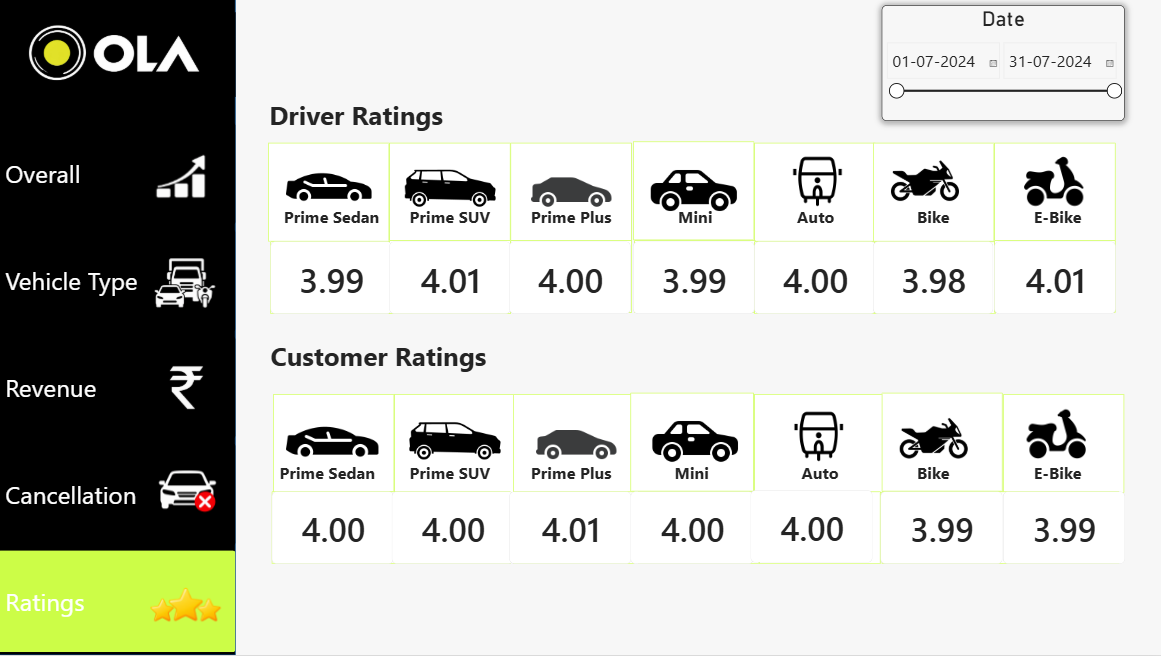

The dashboard page shown, as its layout file describes it:
{"tool":"powerbi","page":{"name":"Ratings","canvas":[1920,1080],"ordinal":4},"visuals":[{"type":"shape","box":[0,0,391.1,1080.6],"z":0},{"type":"image","box":[0,10.3,391.1,162.6],"z":1000},{"type":"pageNavigator","box":[0,203.2,391.1,876.8],"z":2000},{"type":"actionButton","box":[242.9,242.9,115.3,96.7],"z":3000},{"type":"actionButton","box":[195.5,378.7,224.4,162.6],"z":4000},{"type":"actionButton","box":[228.5,557.8,162.6,162.6],"z":5000},{"type":"actionButton","box":[197.6,720.4,228.5,179.1],"z":6000},{"type":"actionButton","box":[197.6,917.4,222.3,162.6],"z":7000},{"type":"shape","box":[444.7,237.3,199.7,162.6],"z":8000},{"type":"shape","box":[643.6,237.3,199.7,162.6],"z":9000},{"type":"shape","box":[844.5,237.3,199.7,162.6],"z":10000},{"type":"shape","box":[1045.5,235.2,199.7,162.6],"z":11000},{"type":"shape","box":[1244.4,237.3,199.7,162.6],"z":12000},{"type":"shape","box":[1441.1,237.3,199.7,162.6],"z":13000},{"type":"shape","box":[1639.9,237.3,199.7,162.6],"z":14000},{"type":"shape","box":[449,399.8,199.7,119.4],"z":15000},{"type":"shape","box":[643.6,397.7,200,121.4],"z":16000},{"type":"shape","box":[844.5,397.7,200,119.6],"z":17000},{"type":"shape","box":[1047.7,397.7,199.7,119.4],"z":18000},{"type":"shape","box":[1244.4,399.8,199.7,119.4],"z":19000},{"type":"shape","box":[1443.2,399.8,199.7,119.4],"z":20000},{"type":"shape","box":[1639.9,397.7,199.7,119.4],"z":21000},{"type":"shape","box":[453.3,650,199.7,162.6],"z":22000},{"type":"shape","box":[652.1,650,199.7,162.6],"z":23000},{"type":"shape","box":[848.8,650,199.7,162.6],"z":24000},{"type":"shape","box":[1041.2,647.8,203.1,162.5],"z":25000},{"type":"shape","box":[1244.4,650,211.7,162.5],"z":26000},{"type":"shape","box":[1456,647.8,198.8,162.5],"z":27000},{"type":"shape","box":[1654.9,650,199.7,162.6],"z":28000},{"type":"shape","box":[451.1,810.3,199.7,119.4],"z":29000},{"type":"shape","box":[643.6,810.3,199.7,119.4],"z":30000},{"type":"shape","box":[848.8,810.3,199.7,119.4],"z":31000},{"type":"shape","box":[1054.1,810.3,199.7,119.4],"z":32000},{"type":"shape","box":[1252.9,810.3,199.7,119.4],"z":33000},{"type":"shape","box":[1456,810.3,199.7,119.4],"z":34000},{"type":"shape","box":[1646.3,810.3,199.7,119.4],"z":35000},{"type":"image","box":[444.7,237.3,200,150],"z":36000},{"type":"textbox","box":[448.2,410.7,200,50],"z":37000},{"type":"textbox","box":[449,340,198.8,57.7],"z":38000},{"type":"image","box":[643.6,237.3,201,149.7],"z":39000},{"type":"textbox","box":[647.8,340,201,59.9],"z":40000},{"type":"image","box":[844.5,237.3,200,162.5],"z":41000},{"type":"textbox","box":[848.8,340,198.8,59.9],"z":42000},{"type":"image","box":[1045.5,252.3,200,144.6],"z":43000},{"type":"textbox","box":[1047.7,340,201,57.7],"z":44000},{"type":"image","box":[1248.6,258.7,200,82.1],"z":45000},{"type":"textbox","box":[1248.6,340,198.8,59.9],"z":46000},{"type":"image","box":[1426.1,243.7,200,112.5],"z":47000},{"type":"textbox","box":[1447.5,340,198.8,59.9],"z":48000},{"type":"image","box":[1637.8,250.2,200,98.2],"z":49000},{"type":"textbox","box":[1646.3,340,201,57.7],"z":50000},{"type":"image","box":[451.1,650,199.7,162.6],"z":51000},{"type":"image","box":[652.1,652.1,200,150],"z":52000},{"type":"image","box":[853.1,652.1,200,162.5],"z":53000},{"type":"image","box":[1047.7,667.1,201,143.3],"z":54000},{"type":"image","box":[1250.8,679.9,200,82.1],"z":55000},{"type":"image","box":[1441.1,667.1,200,112.5],"z":56000},{"type":"image","box":[1642,667.1,200,98.2],"z":57000},{"type":"textbox","box":[449,761.2,198.8,49.2],"z":58000},{"type":"textbox","box":[647.8,761.2,201,51.3],"z":59000},{"type":"textbox","box":[848.8,761.2,198.8,49.2],"z":60000},{"type":"textbox","box":[1047.7,761.2,201,51.3],"z":61000},{"type":"textbox","box":[1248.6,761.2,198.8,49.2],"z":62000},{"type":"textbox","box":[1447.5,761.2,198.8,49.2],"z":63000},{"type":"textbox","box":[1646.3,761.2,201,51.3],"z":64000},{"type":"cardVisual","fields":{"Data":["Avg(Bookings-100000-Rows xlsx - July.Driver_Ratings)"]},"box":[449,399.8,200,119.6],"z":65000},{"type":"cardVisual","fields":{"Data":["Avg(Bookings-100000-Rows xlsx - July.Driver_Ratings)"]},"box":[643.6,399.8,200,119.6],"z":66000},{"type":"cardVisual","fields":{"Data":["Avg(Bookings-100000-Rows xlsx - July.Driver_Ratings)"]},"box":[842.4,399.8,200,119.6],"z":67000},{"type":"cardVisual","fields":{"Data":["Avg(Bookings-100000-Rows xlsx - July.Driver_Ratings)"]},"box":[1045.5,399.8,200,119.6],"z":68000},{"type":"cardVisual","fields":{"Data":["Avg(Bookings-100000-Rows xlsx - July.Driver_Ratings)"]},"box":[1244.4,399.8,200,119.6],"z":69000},{"type":"cardVisual","fields":{"Data":["Avg(Bookings-100000-Rows xlsx - July.Driver_Ratings)"]},"box":[1441.1,399.8,198.8,119.7],"z":70000},{"type":"cardVisual","fields":{"Data":["Avg(Bookings-100000-Rows xlsx - July.Driver_Ratings)"]},"box":[1639.9,399.8,200,119.6],"z":71000},{"type":"textbox","box":[446.9,160.4,402,59.9],"z":72000},{"type":"textbox","box":[449,558,399.8,81.2],"z":73000},{"type":"cardVisual","fields":{"Data":["Avg(Bookings-100000-Rows xlsx - July.Customer_Rating)"]},"box":[451.1,810.3,201.7,119.4],"z":74000},{"type":"cardVisual","fields":{"Data":["Avg(Bookings-100000-Rows xlsx - July.Customer_Rating)"]},"box":[647.8,810.3,201.7,119.4],"z":75000},{"type":"cardVisual","fields":{"Data":["Avg(Bookings-100000-Rows xlsx - July.Customer_Rating)"]},"box":[842.4,810.3,201.7,119.4],"z":76000},{"type":"cardVisual","fields":{"Data":["Avg(Bookings-100000-Rows xlsx - July.Customer_Rating)"]},"box":[1041.2,810.3,203.1,119.7],"z":77000},{"type":"cardVisual","fields":{"Data":["Avg(Bookings-100000-Rows xlsx - July.Customer_Rating)"]},"box":[1240.1,808.2,201.7,119.4],"z":78000},{"type":"cardVisual","fields":{"Data":["Avg(Bookings-100000-Rows xlsx - July.Customer_Rating)"]},"box":[1453.9,810.3,201.7,119.4],"z":79000},{"type":"cardVisual","fields":{"Data":["Avg(Bookings-100000-Rows xlsx - July.Customer_Rating)"]},"box":[1654.9,810.3,201.7,119.4],"z":80000},{"type":"slicer","title":"Date","fields":{"Values":["Bookings-100000-Rows xlsx - July.Date"]},"box":[1456,10.7,399.8,190.3],"z":81000}]}

Visuals, with their boxes in screenshot pixels (x1, y1, x2, y2), scaled from the page's 1920x1080 canvas onto the 1161x656 screenshot:
shape: (0,0,236,655)
image: (0,6,236,105)
pageNavigator: (0,123,236,655)
actionButton: (147,148,217,206)
actionButton: (118,230,254,329)
actionButton: (138,339,236,438)
actionButton: (119,438,258,546)
actionButton: (119,557,254,655)
shape: (269,144,390,243)
shape: (389,144,510,243)
shape: (511,144,631,243)
shape: (632,143,753,242)
shape: (752,144,873,243)
shape: (871,144,992,243)
shape: (992,144,1112,243)
shape: (272,243,392,315)
shape: (389,242,510,315)
shape: (511,242,632,314)
shape: (634,242,754,314)
shape: (752,243,873,315)
shape: (873,243,993,315)
shape: (992,242,1112,314)
shape: (274,395,395,494)
shape: (394,395,515,494)
shape: (513,395,634,494)
shape: (630,393,752,492)
shape: (752,395,880,494)
shape: (880,393,1001,492)
shape: (1001,395,1121,494)
shape: (273,492,394,565)
shape: (389,492,510,565)
shape: (513,492,634,565)
shape: (637,492,758,565)
shape: (758,492,878,565)
shape: (880,492,1001,565)
shape: (995,492,1116,565)
image: (269,144,390,235)
textbox: (271,249,392,280)
textbox: (272,207,392,242)
image: (389,144,511,235)
textbox: (392,207,513,243)
image: (511,144,632,243)
textbox: (513,207,633,243)
image: (632,153,753,241)
textbox: (634,207,755,242)
image: (755,157,876,207)
textbox: (755,207,875,243)
image: (862,148,983,216)
textbox: (875,207,995,243)
image: (990,152,1111,212)
textbox: (995,207,1117,242)
image: (273,395,394,494)
image: (394,396,515,487)
image: (516,396,637,495)
image: (634,405,755,492)
image: (756,413,877,463)
image: (871,405,992,474)
image: (993,405,1114,465)
textbox: (272,462,392,492)
textbox: (392,462,513,494)
textbox: (513,462,633,492)
textbox: (634,462,755,494)
textbox: (755,462,875,492)
textbox: (875,462,995,492)
textbox: (995,462,1117,494)
cardVisual - Avg(Bookings-100000-Rows xlsx - July.Driver_Ratings): (272,243,392,315)
cardVisual - Avg(Bookings-100000-Rows xlsx - July.Driver_Ratings): (389,243,510,315)
cardVisual - Avg(Bookings-100000-Rows xlsx - July.Driver_Ratings): (509,243,630,315)
cardVisual - Avg(Bookings-100000-Rows xlsx - July.Driver_Ratings): (632,243,753,315)
cardVisual - Avg(Bookings-100000-Rows xlsx - July.Driver_Ratings): (752,243,873,315)
cardVisual - Avg(Bookings-100000-Rows xlsx - July.Driver_Ratings): (871,243,992,316)
cardVisual - Avg(Bookings-100000-Rows xlsx - July.Driver_Ratings): (992,243,1113,315)
textbox: (270,97,513,134)
textbox: (272,339,513,388)
cardVisual - Avg(Bookings-100000-Rows xlsx - July.Customer_Rating): (273,492,395,565)
cardVisual - Avg(Bookings-100000-Rows xlsx - July.Customer_Rating): (392,492,514,565)
cardVisual - Avg(Bookings-100000-Rows xlsx - July.Customer_Rating): (509,492,631,565)
cardVisual - Avg(Bookings-100000-Rows xlsx - July.Customer_Rating): (630,492,752,565)
cardVisual - Avg(Bookings-100000-Rows xlsx - July.Customer_Rating): (750,491,872,563)
cardVisual - Avg(Bookings-100000-Rows xlsx - July.Customer_Rating): (879,492,1001,565)
cardVisual - Avg(Bookings-100000-Rows xlsx - July.Customer_Rating): (1001,492,1123,565)
"Date" slicer: (880,6,1122,122)
